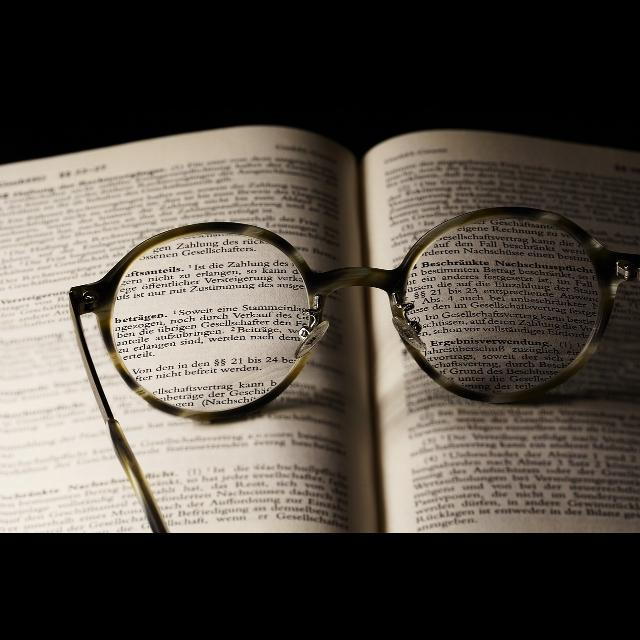glasses: (68, 207, 640, 426)
